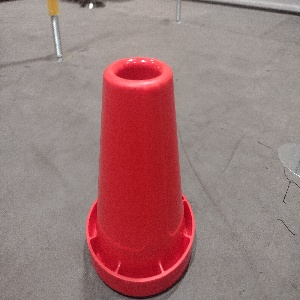Red_1: (83, 53, 196, 299)
